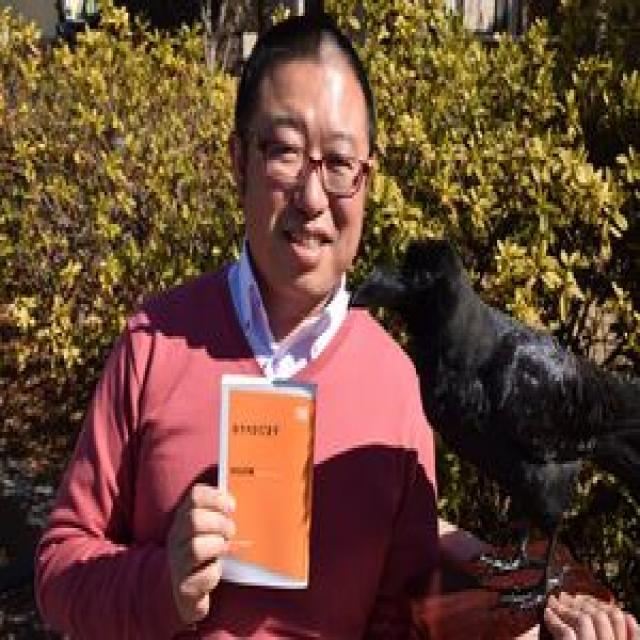crow: (346, 221, 640, 582)
